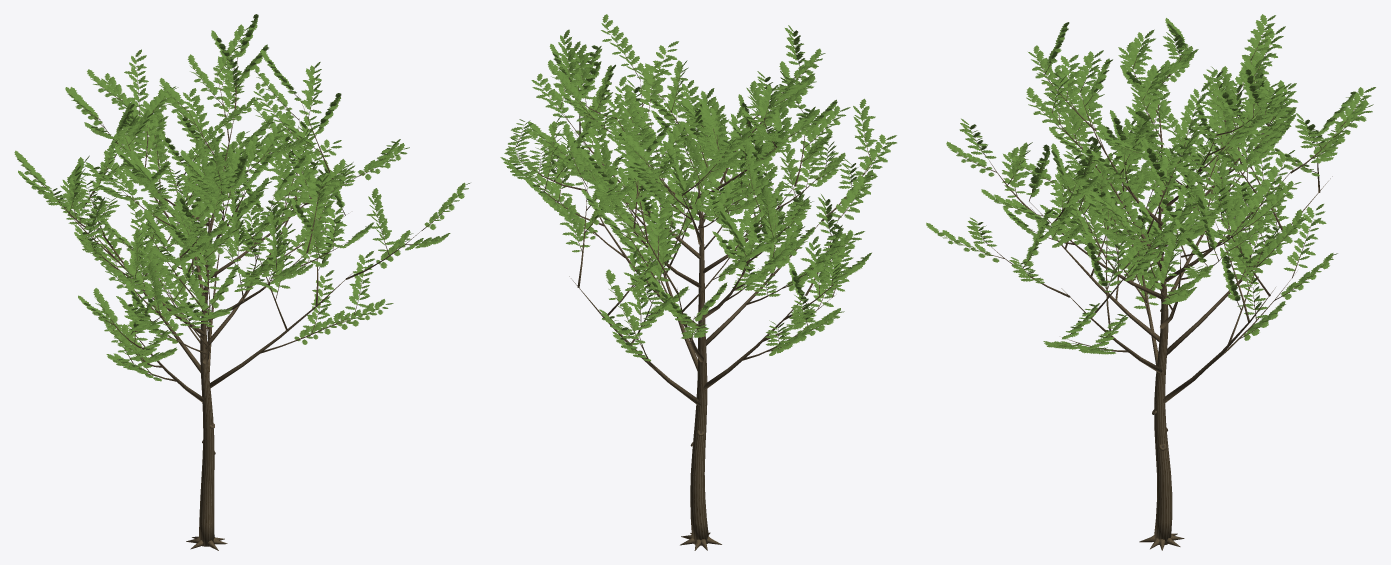
Rendered from Sessile_Oak_Mature_02_LowPruned_Healed_LOD0.fbx.
3 renders of one model, left to right at view 1: azimuth 30°, elevation 25°; view 2: azimuth 150°, elevation 25°; view 3: azimuth 270°, elevation 25°, orthographic. The views are drawn at different scales.
Visible parts, largest first — view 1: Sessile_Oak_Mature_02_LowPruned_Healed_LOD0; view 2: Sessile_Oak_Mature_02_LowPruned_Healed_LOD0; view 3: Sessile_Oak_Mature_02_LowPruned_Healed_LOD0.
Part boxes in pixels (x1=…): Sessile_Oak_Mature_02_LowPruned_Healed_LOD0: x1=14, y1=14, x2=469, y2=550; Sessile_Oak_Mature_02_LowPruned_Healed_LOD0: x1=500, y1=14, x2=896, y2=550; Sessile_Oak_Mature_02_LowPruned_Healed_LOD0: x1=926, y1=14, x2=1375, y2=550.
Bounding box in the file's own units: 1545 × 2201 × 1710.
Materials: 3 (2 with a texture image).
